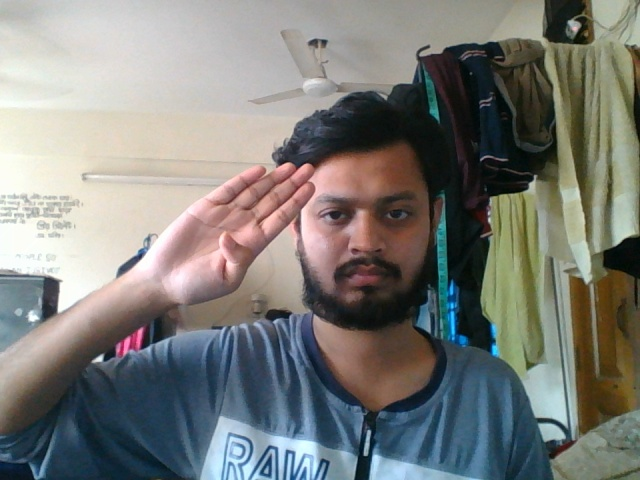salam: (124, 159, 321, 338)
